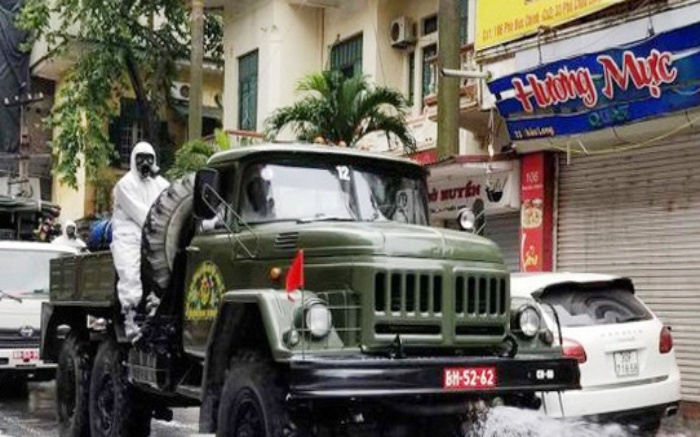plate: (440, 364, 494, 388), (609, 348, 643, 379)
